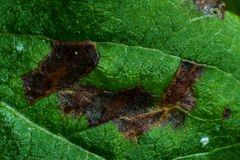Apple Scab Leaf: (10, 16, 228, 148)
